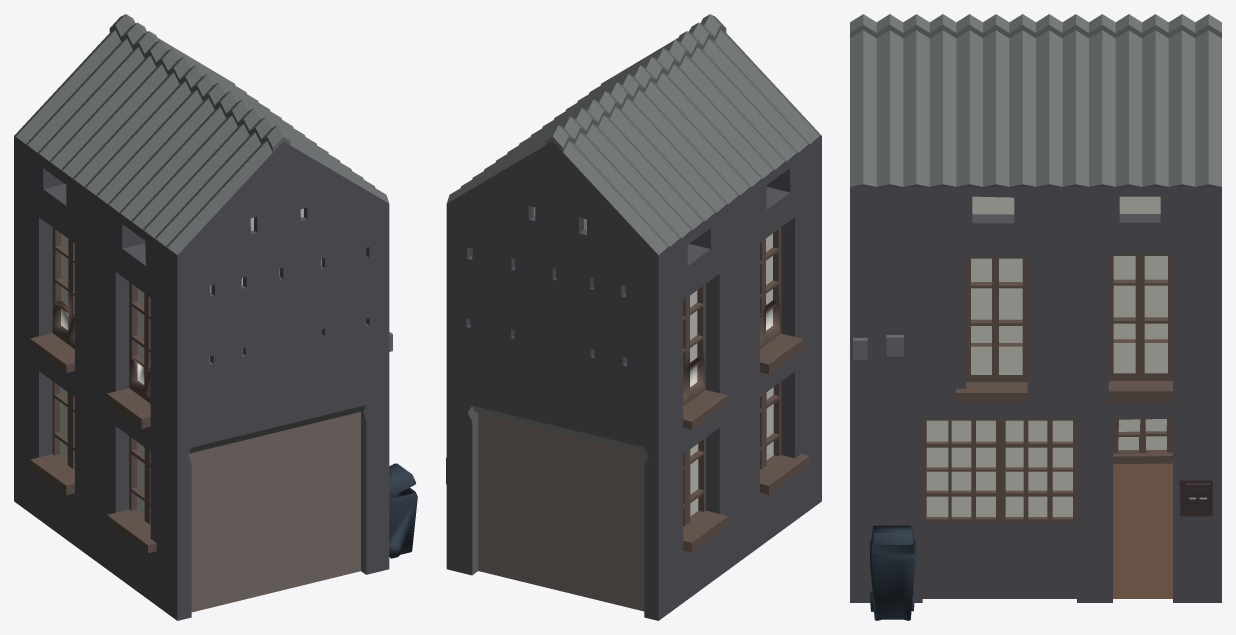
Rendered from PlaceholderUpd.fbx.
The picture shows the model from 3 angles, left to right: view 1: azimuth 30°, elevation 25°; view 2: azimuth 150°, elevation 25°; view 3: azimuth 270°, elevation 25°; orthographic projection. The views are drawn at different scales.
Visible parts, largest first — view 1: Placeholder; view 2: Placeholder; view 3: Placeholder.
Part boxes in pixels (x1,y1,x2,y2): Placeholder: [14, 14, 417, 620]; Placeholder: [446, 14, 821, 620]; Placeholder: [850, 14, 1221, 620].
Size of the model in its own units: 343 by 591 by 375.
